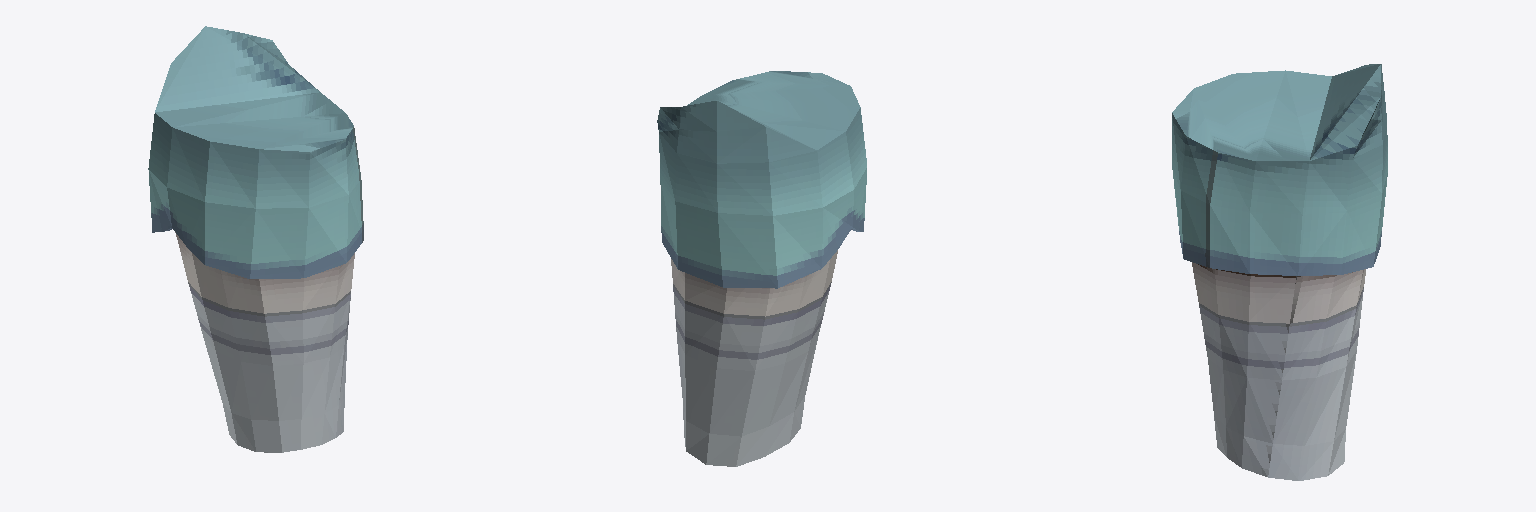
3 renders of one model, left to right at view 1: azimuth 30°, elevation 25°; view 2: azimuth 150°, elevation 25°; view 3: azimuth 270°, elevation 25°, orthographic.
Parts seen in each view (by area): view 1: 七七_mesh_七七.005; view 2: 七七_mesh_七七.005; view 3: 七七_mesh_七七.005.
Boxes of the visible parts, box(x1,y1,x2,y2) form: 七七_mesh_七七.005: box(148, 26, 363, 452); 七七_mesh_七七.005: box(657, 71, 866, 466); 七七_mesh_七七.005: box(1172, 64, 1387, 480).
Size of the model in its own units: 1.54 by 3.24 by 1.65.
2 materials, 1 textured.